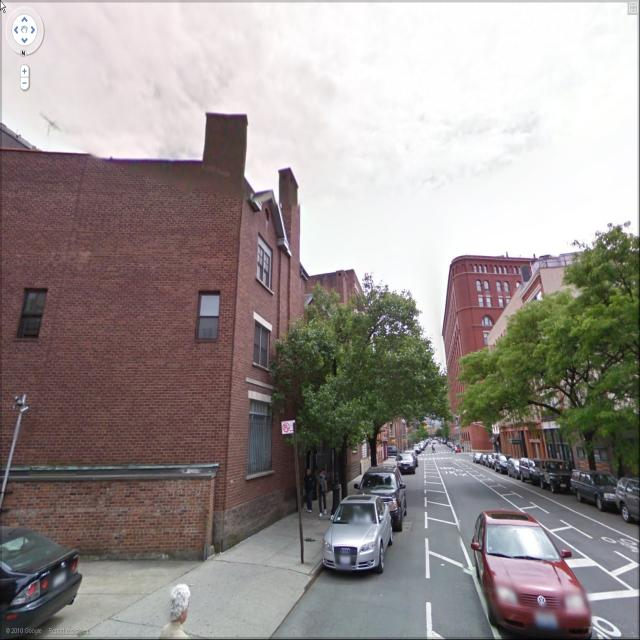b_1: (0, 129, 308, 525)
b_2: (488, 239, 636, 482), (435, 248, 533, 464), (301, 260, 390, 481)
